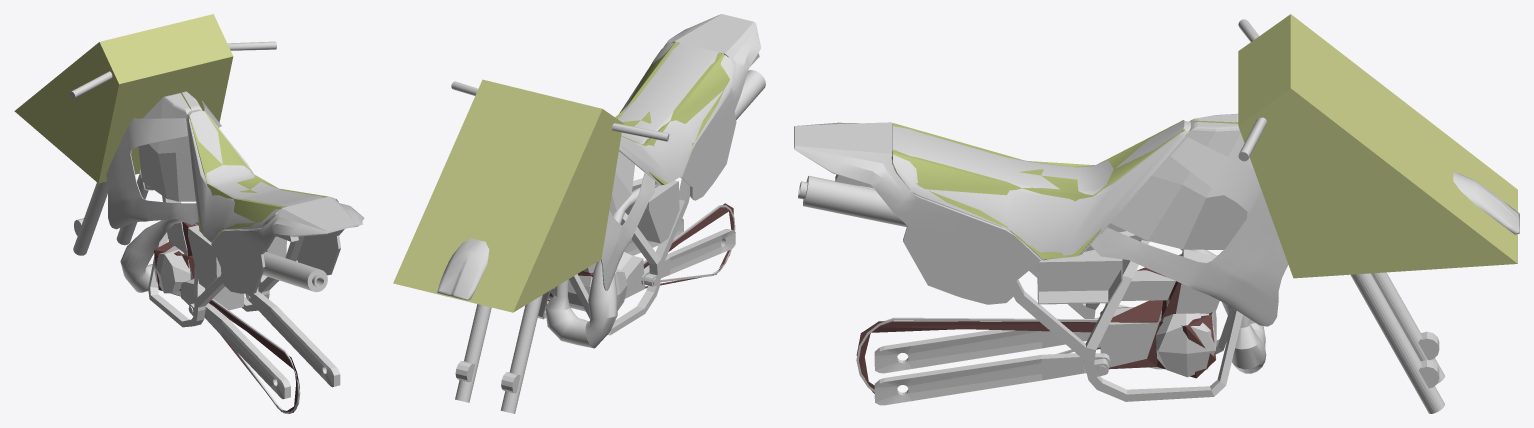
File: Cagiva2.fbx
3 renders of one model, left to right at view 1: azimuth 30°, elevation 25°; view 2: azimuth 150°, elevation 25°; view 3: azimuth 270°, elevation 25°, orthographic. The views are drawn at different scales.
Parts seen in each view (by area): view 1: UTM_Main_02, CarrenageAR, Selle, CarenageAV, BrasOscillant, Cadre, Reservoir, Echappement, Moteur, UTM_FG_Interrior, AmortoAV, UTM_FG_Engine (+1 smaller); view 2: UTM_Main_02, Selle, CarrenageAR, Cadre, Echappement, AmortoAV, UTM_FG_Interrior, Moteur, TeteFourche, CarenageAV, BrasOscillant, Reservoir (+2 smaller); view 3: UTM_Main_02, CarrenageAR, Selle, CarenageAV, Cadre, BrasOscillant, Reservoir, Moteur, UTM_FG_Interrior, AmortoAV, UTM_FG_Engine, Echappement (+2 smaller).
Part boxes in pixels (x1,y1,x2,y2): UTM_Main_02: [14, 14, 233, 183]; CarrenageAR: [211, 196, 364, 293]; Selle: [186, 109, 338, 242]; CarenageAV: [106, 101, 221, 229]; BrasOscillant: [188, 290, 340, 399]; Cadre: [148, 195, 362, 327]; Reservoir: [138, 91, 202, 201]; Echappement: [120, 219, 327, 292]; Moteur: [153, 222, 300, 413]; UTM_FG_Interrior: [189, 110, 328, 238]; AmortoAV: [73, 173, 148, 255]; UTM_FG_Engine: [154, 222, 299, 412]; UTM_Main_02: [393, 79, 623, 312]; Selle: [618, 42, 734, 185]; CarrenageAR: [663, 14, 761, 200]; Cadre: [537, 53, 759, 335]; Echappement: [545, 70, 765, 348]; AmortoAV: [455, 295, 542, 413]; UTM_FG_Interrior: [615, 42, 732, 184]; Moteur: [548, 205, 735, 311]; TeteFourche: [437, 238, 489, 300]; CarenageAV: [601, 172, 654, 290]; BrasOscillant: [624, 218, 735, 285]; Reservoir: [609, 151, 634, 214]; UTM_Main_02: [1238, 14, 1517, 278]; CarrenageAR: [794, 122, 1040, 304]; Selle: [891, 121, 1190, 259]; CarenageAV: [1090, 137, 1288, 326]; Cadre: [835, 174, 1242, 401]; BrasOscillant: [874, 330, 1110, 405]; Reservoir: [1110, 113, 1253, 249]; Moteur: [856, 249, 1219, 392]; UTM_FG_Interrior: [892, 120, 1185, 259]; AmortoAV: [1350, 272, 1444, 413]; UTM_FG_Engine: [856, 254, 1215, 393]; Echappement: [798, 176, 1266, 373].
Size of what is drawn, in the model's own units: 81.21 by 103 by 186.
